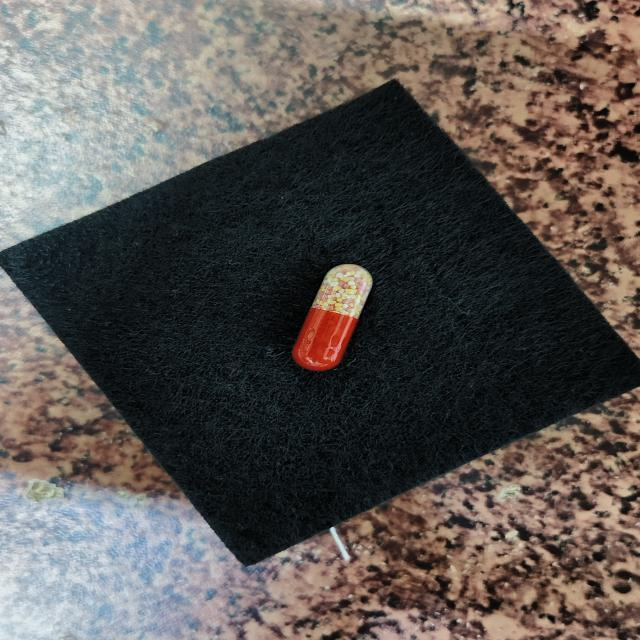Intact Capsule: (292, 264, 373, 371)
